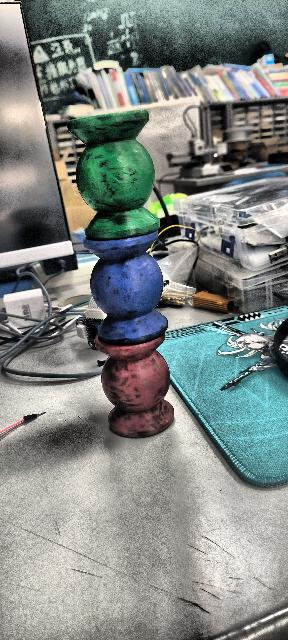blue: (82, 230, 168, 344)
green: (58, 104, 159, 236)
red: (86, 332, 182, 443)
